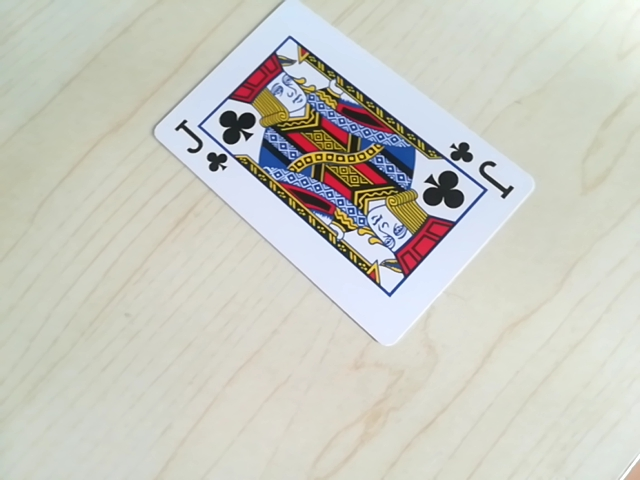mh j: (440, 140, 511, 193), (171, 129, 241, 176)
